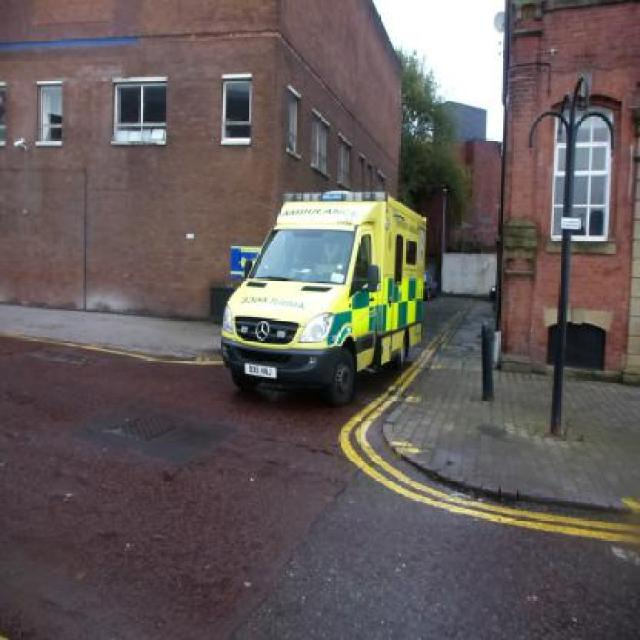Car: (218, 184, 430, 399)
